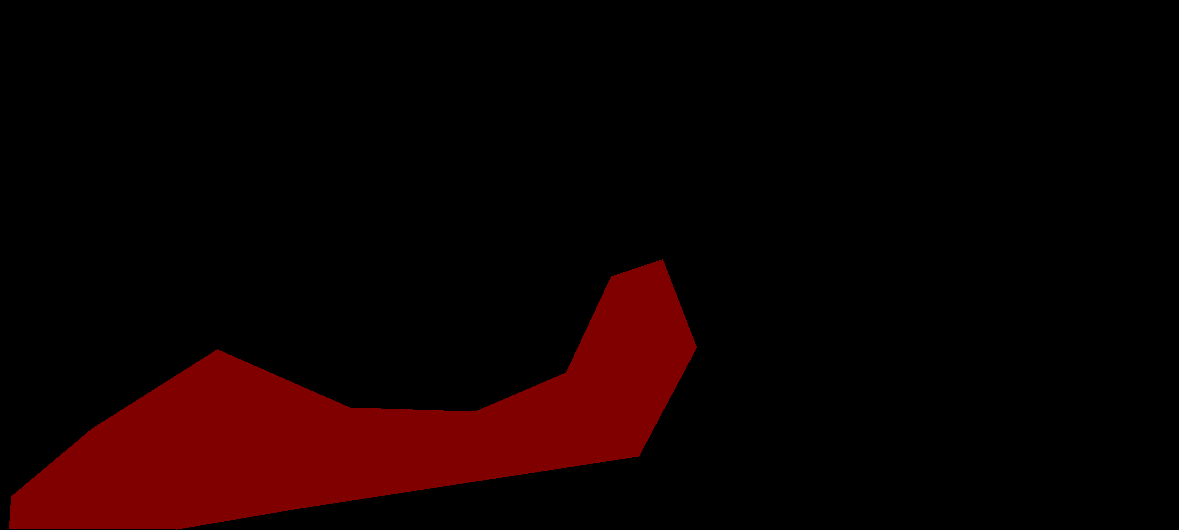fire: (9, 259, 696, 529)
